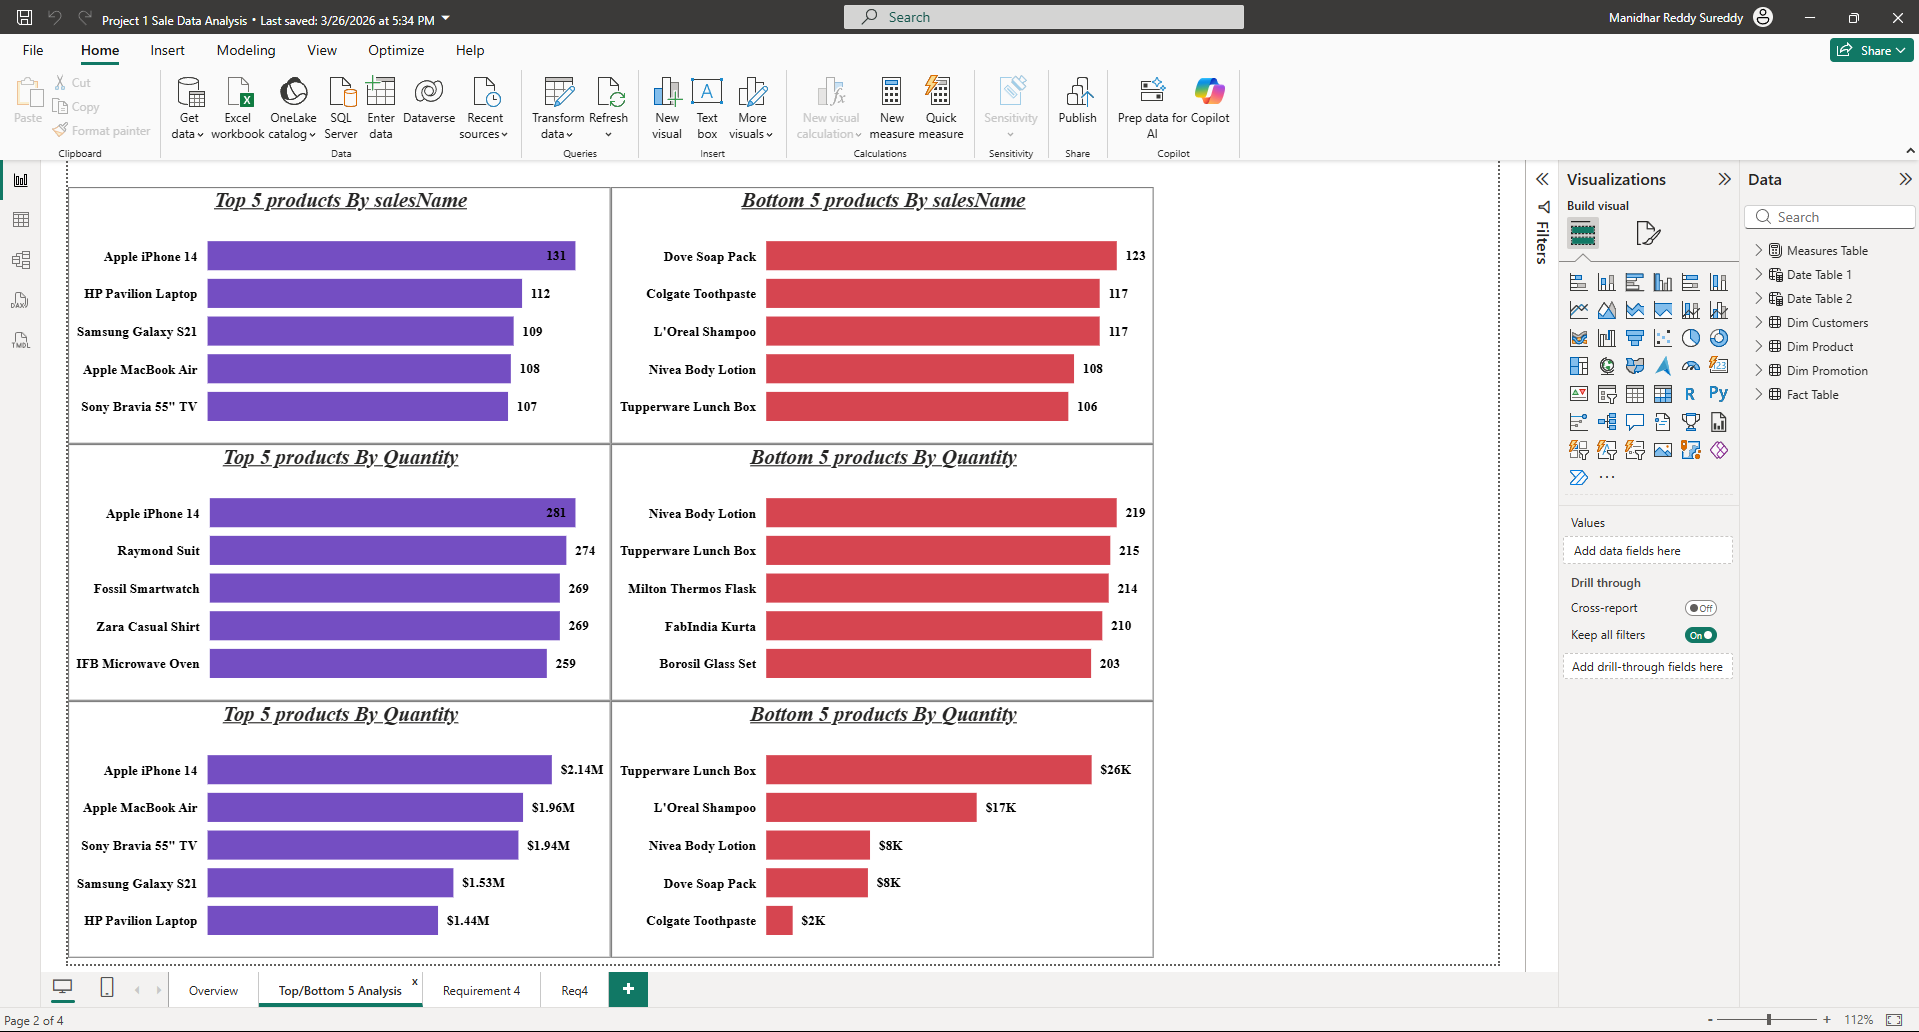

What the dashboard file says about the page in this screenshot:
{"tool":"powerbi","page":{"name":"Top/Bottom 5 Analysis","canvas":[1280,720],"ordinal":1},"visuals":[{"type":"barChart","title":"Top 5 products By salesName","fields":{"Category":["Dim Product.Product Name"],"Y":["CountNonNull(Fact Table.Net Sales)"]},"box":[0,24.2,486.2,230],"z":0},{"type":"barChart","title":"Bottom 5 products By salesName","fields":{"Category":["Dim Product.Product Name"],"Y":["CountNonNull(Fact Table.Net Sales)"]},"box":[486.2,24.2,486.2,230],"z":1000},{"type":"barChart","title":"Top 5 products By Quantity","fields":{"Category":["Dim Product.Product Name"],"Y":["Sum(Fact Table.Units Sold)"]},"box":[0,254.2,486.2,230],"z":2000},{"type":"barChart","title":"Bottom 5 products By Quantity","fields":{"Category":["Dim Product.Product Name"],"Y":["Sum(Fact Table.Units Sold)"]},"box":[486.2,254.2,486.2,230],"z":3000},{"type":"barChart","title":"Top 5 products By Quantity","fields":{"Category":["Dim Product.Product Name"],"Y":["Sum(Fact Table.Profit)"]},"box":[0,484.2,486.2,230],"z":4000},{"type":"barChart","title":"Bottom 5 products By Quantity","fields":{"Category":["Dim Product.Product Name"],"Y":["Sum(Fact Table.Profit)"]},"box":[486.2,484.2,486.2,230],"z":5000}]}

Visuals, with their boxes on the page's 1280x720 design canvas (x1, y1, x2, y2). These are canvas units, not pixel positions in the 1919x1032 screenshot, which may show the page scaled, cropped or inside an application window:
"Top 5 products By salesName" barChart: bbox=(0, 24, 486, 254)
"Bottom 5 products By salesName" barChart: bbox=(486, 24, 972, 254)
"Top 5 products By Quantity" barChart: bbox=(0, 254, 486, 484)
"Bottom 5 products By Quantity" barChart: bbox=(486, 254, 972, 484)
"Top 5 products By Quantity" barChart: bbox=(0, 484, 486, 714)
"Bottom 5 products By Quantity" barChart: bbox=(486, 484, 972, 714)
